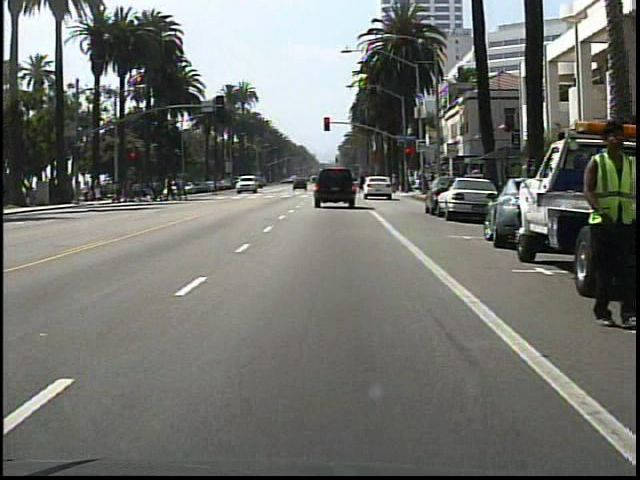person: (565, 116, 638, 330), (207, 172, 226, 201)
